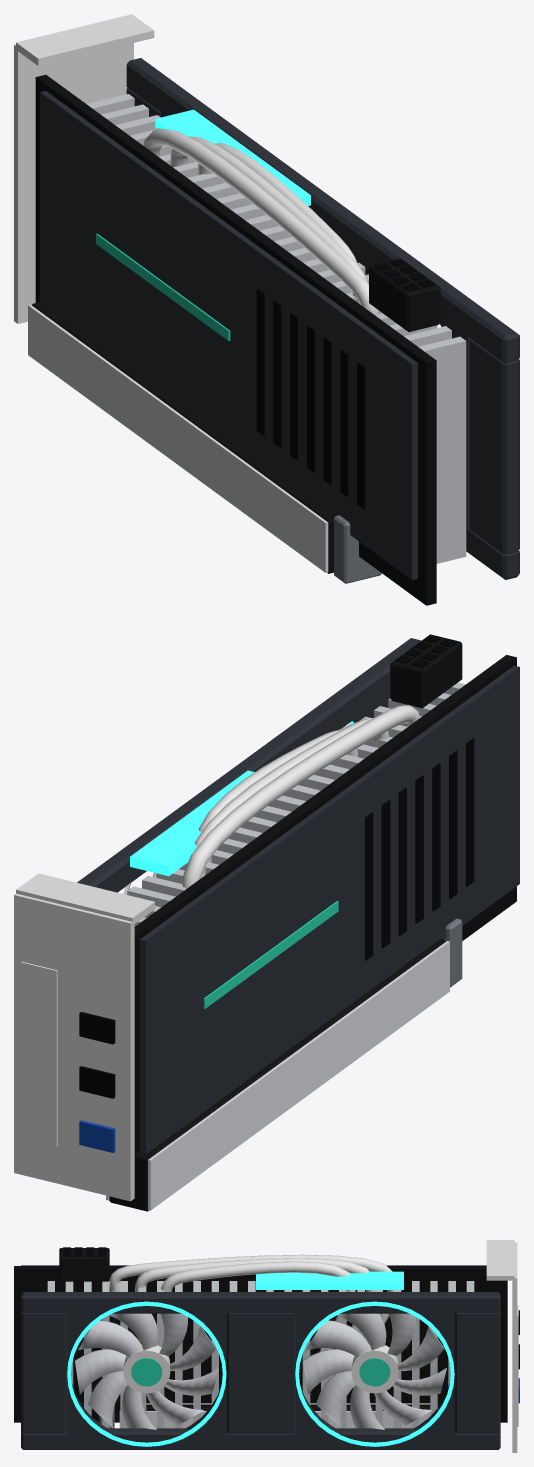
The model's file is hwm_gpu_rtx4060ti.glb.
3 views of the same model, one above another, from view 1: azimuth 30°, elevation 25°; view 2: azimuth 150°, elevation 25°; view 3: azimuth 270°, elevation 25° (orthographic). The views are drawn at different scales.
Visible parts, largest first — view 1: Card_0, Slot_0; view 2: Card_0, Slot_0; view 3: Card_0, Rotor_X_0, Rotor_X_1, Slot_0.
Boxes of the visible parts, x1,y1,x2,y2 form: Card_0: (14, 14, 519, 605); Slot_0: (28, 302, 381, 583); Card_0: (14, 634, 519, 1201); Slot_0: (106, 918, 462, 1211); Card_0: (14, 1240, 519, 1452); Rotor_X_0: (303, 1313, 446, 1429); Rotor_X_1: (75, 1313, 218, 1429); Slot_0: (99, 1404, 439, 1428).
Bounding box in the file's own units: 0.0375 × 0.0916 × 0.2152.
